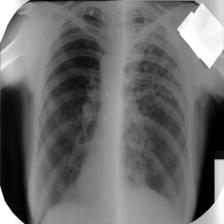tuberculosis: (27, 0, 194, 224)
